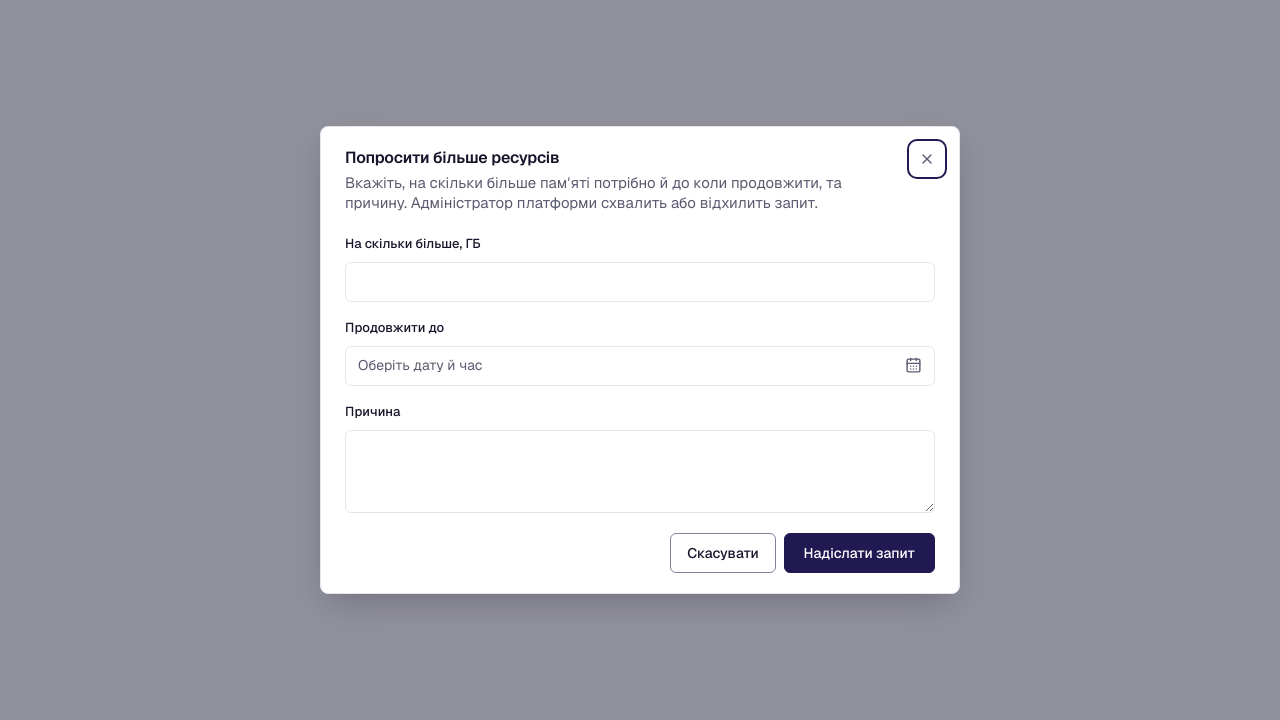
Test: ChangeRequestDialog › asks for a reason before sending
Type "2" into the field labelled "На скільки більше, ГБ" at (640, 282), box left=345, top=262, right=935, bottom=302
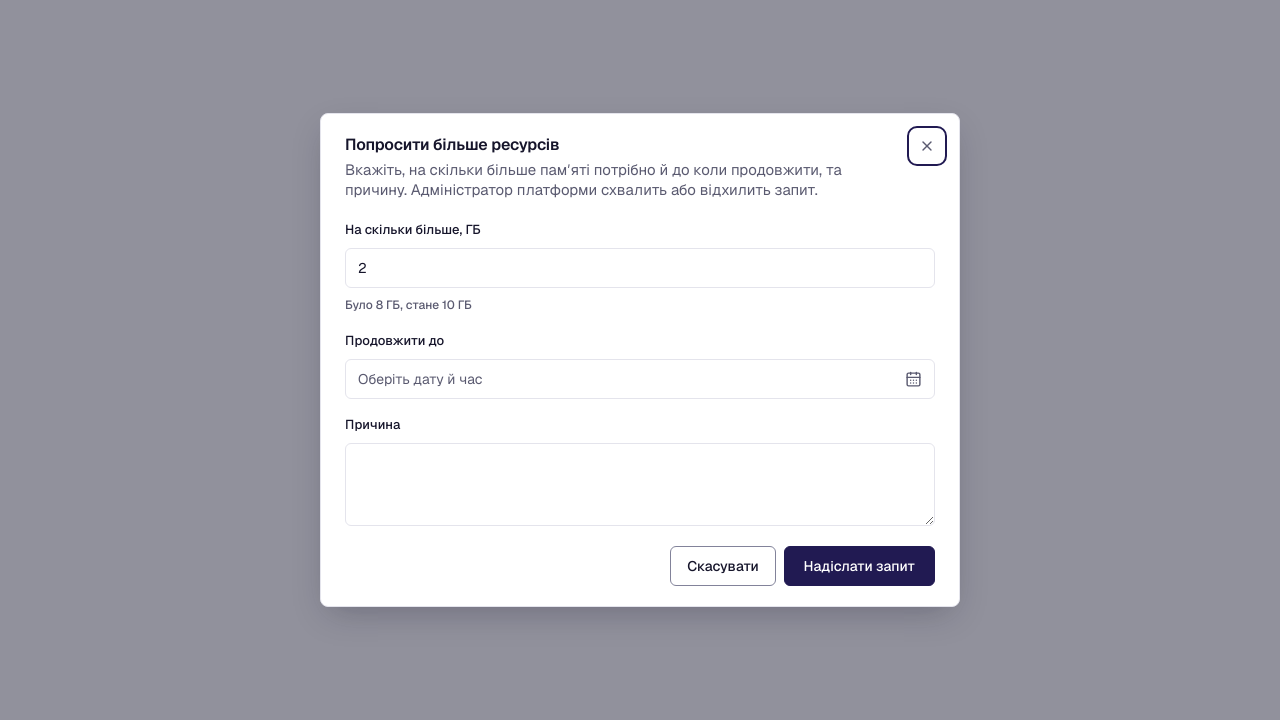
Click the button "Надіслати запит" at (859, 566), box left=784, top=546, right=935, bottom=586
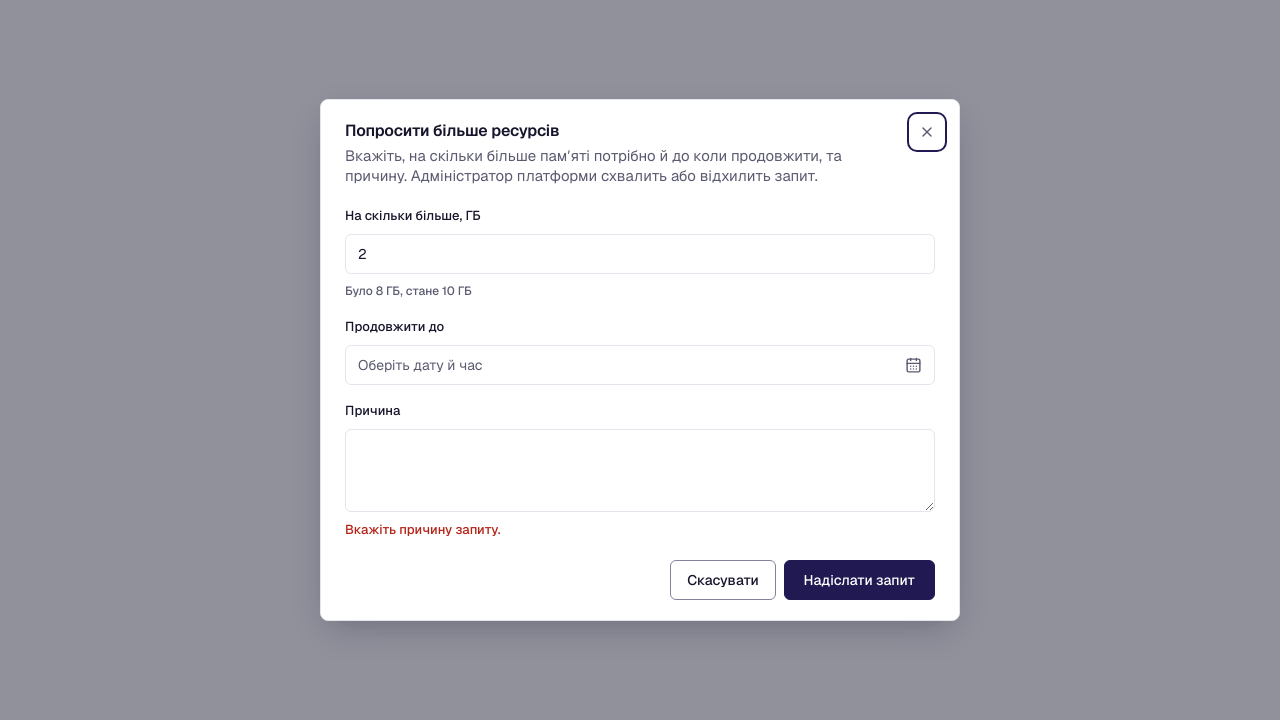
Check: the message shows "причину", box left=345, top=521, right=501, bottom=538
